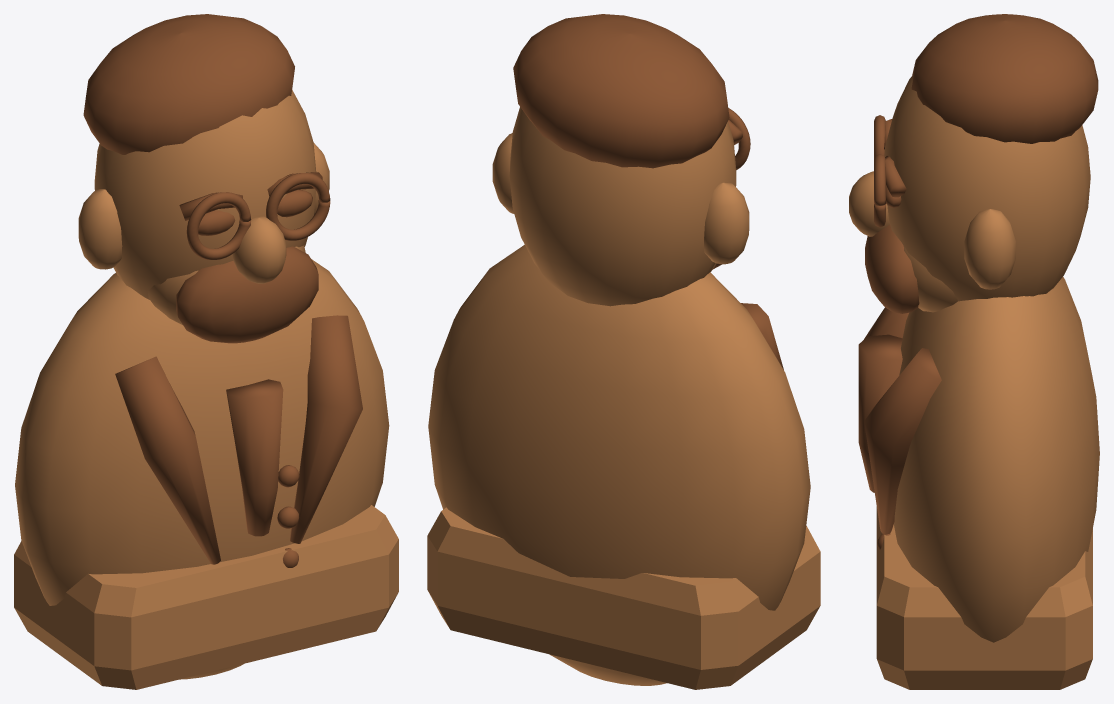
Rendered from coach-7.glb.
3 renders of one model, left to right at view 1: azimuth 30°, elevation 25°; view 2: azimuth 150°, elevation 25°; view 3: azimuth 270°, elevation 25°, orthographic. The views are drawn at different scales.
Visible parts, largest first — view 1: coach-7 · Cast bronze, coach-7 · Bronze patina, coach-7 · Cast bronze.001; view 2: coach-7 · Cast bronze, coach-7 · Cast bronze.001, coach-7 · Bronze patina; view 3: coach-7 · Cast bronze, coach-7 · Bronze patina, coach-7 · Cast bronze.001.
Part boxes in pixels (x1,y1,x2,y2): coach-7 · Cast bronze: [15, 89, 389, 679]; coach-7 · Bronze patina: [83, 14, 362, 567]; coach-7 · Cast bronze.001: [14, 505, 398, 689]; coach-7 · Cast bronze: [428, 107, 810, 685]; coach-7 · Cast bronze.001: [427, 507, 820, 689]; coach-7 · Bronze patina: [513, 14, 783, 369]; coach-7 · Cast bronze: [849, 76, 1099, 642]; coach-7 · Bronze patina: [858, 14, 1098, 550]; coach-7 · Cast bronze.001: [876, 507, 1092, 689].
Size of the model in its own units: 1.18 by 2.01 by 0.7085.
